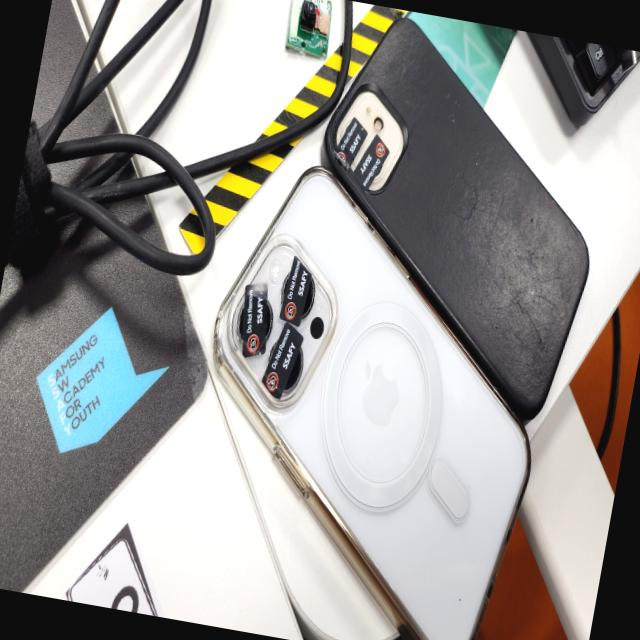phone: (162, 150, 576, 640), (283, 8, 626, 428)
sticker: (232, 278, 277, 362), (261, 319, 306, 402), (352, 130, 392, 198), (278, 252, 314, 327), (332, 115, 368, 173)
